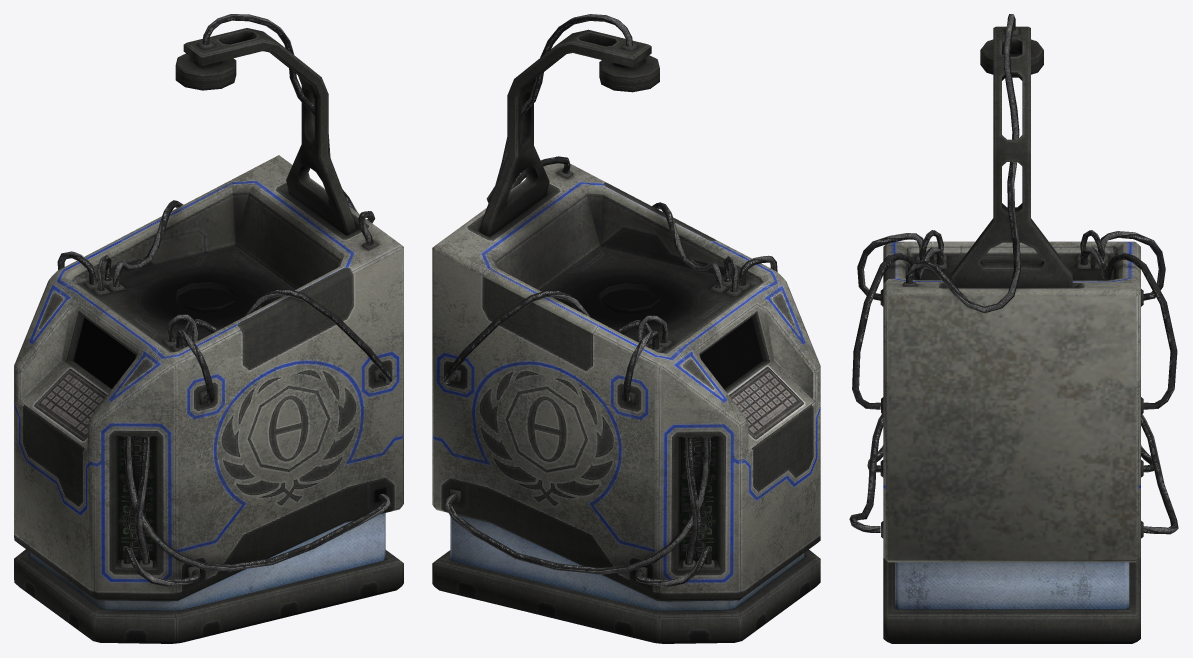
File: 02_05_computer_scan_storage.dae
3 renders of one model, left to right at view 1: azimuth 30°, elevation 25°; view 2: azimuth 150°, elevation 25°; view 3: azimuth 270°, elevation 25°, orthographic. The views are drawn at different scales.
Parts seen in each view (by area): view 1: polySurface147, polySurface83; view 2: polySurface147, polySurface83; view 3: polySurface147, polySurface83.
Part boxes in pixels (x1,y1,x2,y2): polySurface147: (14,28,403,643); polySurface83: (57,14,392,586); polySurface147: (432,29,820,643); polySurface83: (443,14,777,586); polySurface147: (880,26,1143,643); polySurface83: (849,14,1178,534).
Size of the model in its own units: 1.37 by 2.45 by 1.28.
